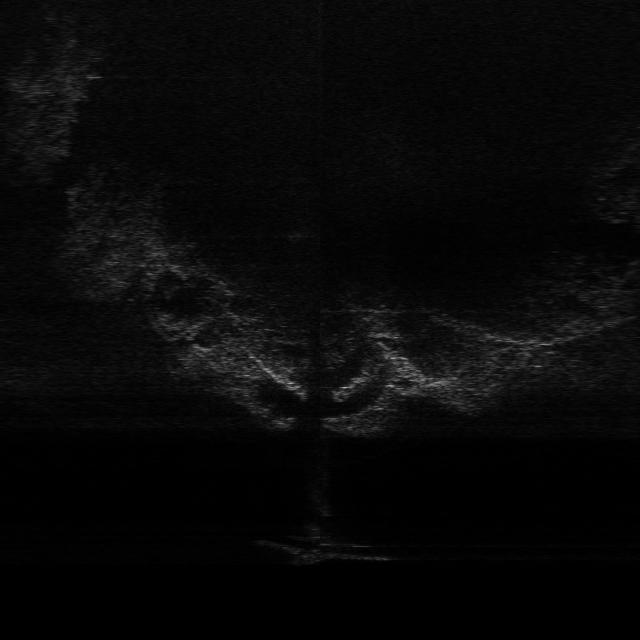plane: (256, 521, 398, 567)
